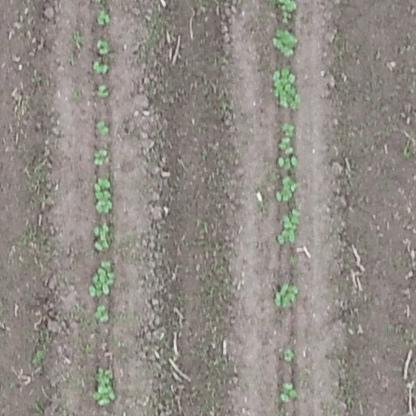vc: (271, 65, 304, 110), (275, 208, 306, 246), (91, 366, 119, 406), (86, 262, 116, 297), (269, 27, 302, 58), (273, 278, 301, 309), (272, 175, 301, 202), (94, 177, 114, 214), (91, 221, 112, 252), (277, 143, 301, 167), (279, 381, 300, 404), (92, 147, 112, 168), (92, 304, 112, 324), (95, 8, 112, 29), (95, 37, 112, 56), (93, 81, 110, 98), (90, 61, 112, 74), (95, 118, 111, 135), (282, 122, 298, 139), (281, 346, 296, 363)
